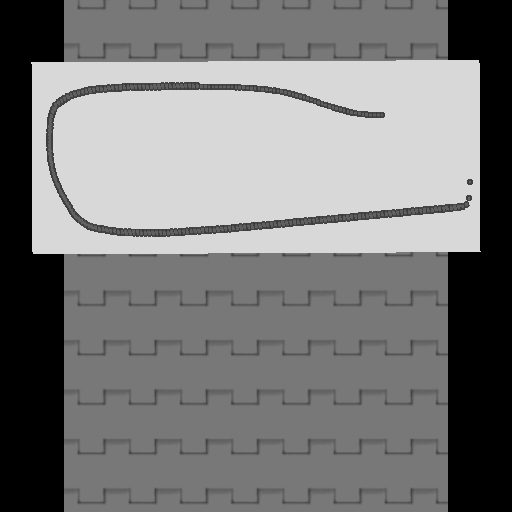Defect: (383, 102, 460, 129)
